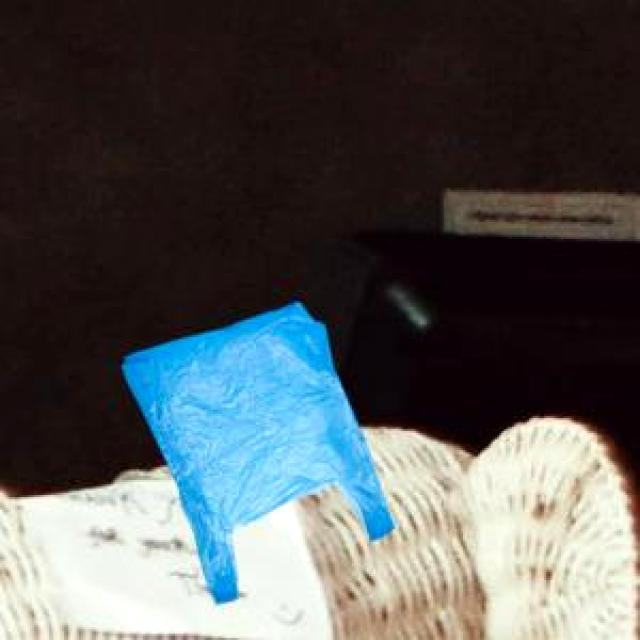Plastic_Bag: (120, 300, 392, 600)
